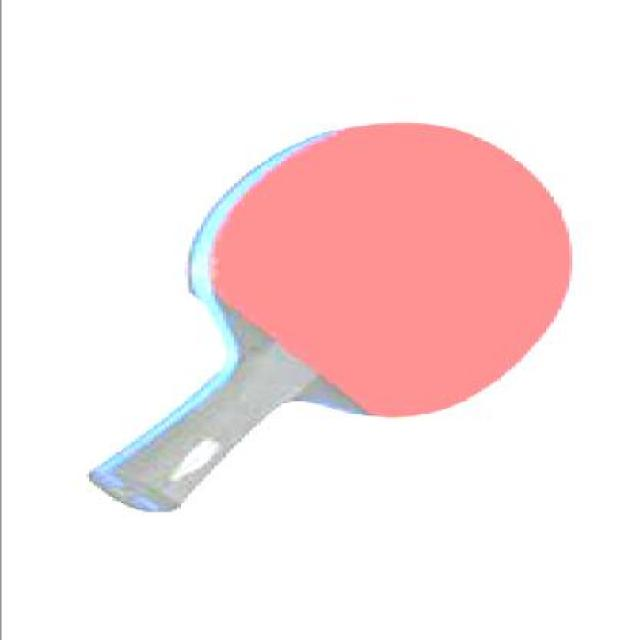table_tennis_racket: (188, 117, 584, 420)
